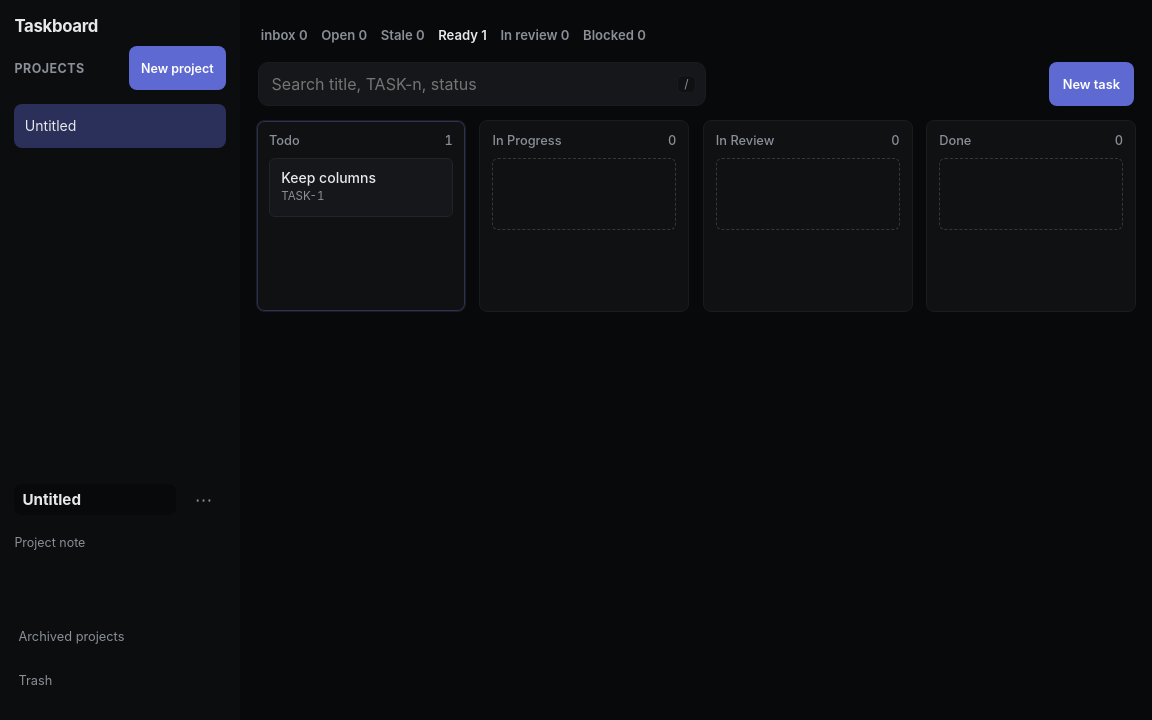
design-review regressions › keeps four columns visible while the inspector is open
This screenshot has width=1152, height=720.
Click the list item "Keep columns TASK-1": (361, 188) top-left (269, 158), bottom-right (453, 217)
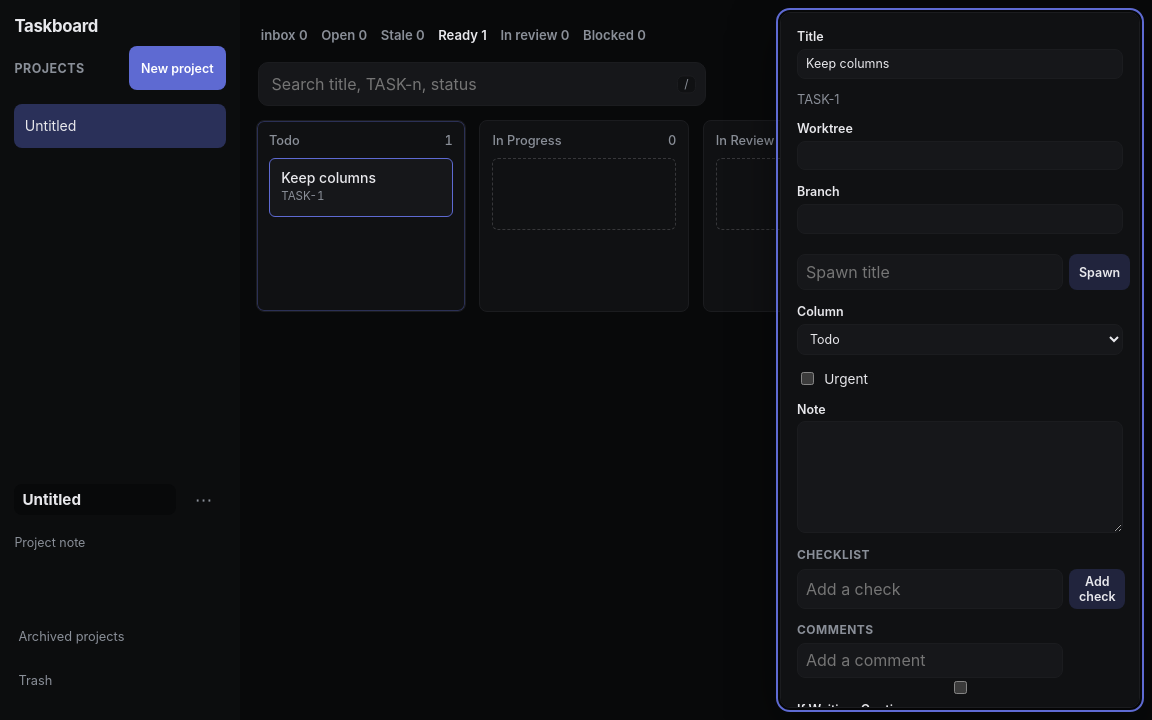
Expected: the list named "Todo" is shown, top-left (269, 158), bottom-right (453, 230)
Now the field labelled "Title" is shown, box top-left (797, 49), bottom-right (1123, 79)
